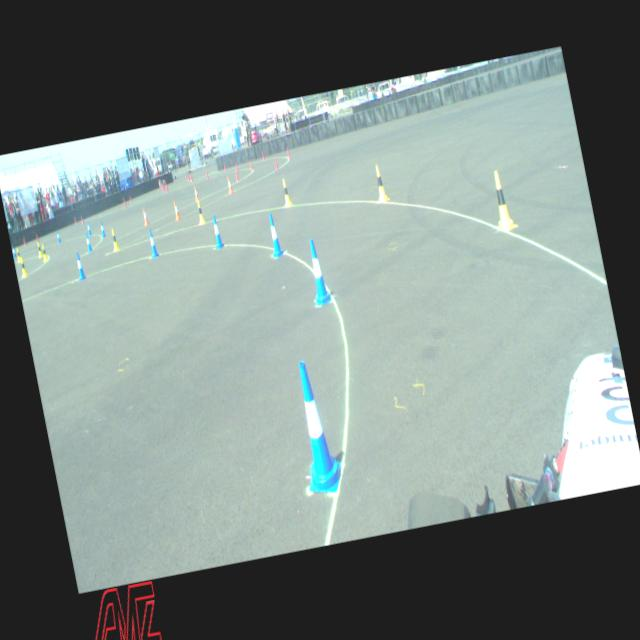blue_cone: (286, 358, 346, 498), (304, 238, 333, 306), (265, 212, 285, 258), (210, 214, 226, 250), (74, 250, 88, 282), (146, 228, 160, 258), (84, 233, 93, 253), (99, 220, 106, 238), (86, 220, 92, 236), (11, 245, 17, 259), (56, 230, 61, 243)
orange_cone: (172, 200, 182, 222), (142, 207, 150, 226), (226, 175, 234, 193), (193, 184, 199, 200)
unknown_cone: (234, 168, 240, 182), (274, 157, 278, 170), (123, 195, 127, 208), (249, 160, 253, 172), (22, 237, 27, 246), (286, 147, 290, 158), (206, 169, 210, 180), (234, 161, 238, 172), (262, 150, 266, 160), (128, 195, 132, 204), (36, 233, 40, 242), (74, 215, 78, 224), (80, 216, 84, 224), (165, 184, 169, 192), (162, 182, 165, 192), (190, 174, 193, 182), (224, 162, 226, 172), (188, 174, 190, 182), (186, 174, 188, 181)
yellow_cone: (489, 168, 515, 230), (372, 164, 388, 202), (280, 178, 292, 206), (110, 228, 120, 252), (196, 200, 206, 224), (19, 256, 28, 278), (41, 243, 48, 261), (37, 241, 43, 257), (15, 247, 21, 263)
